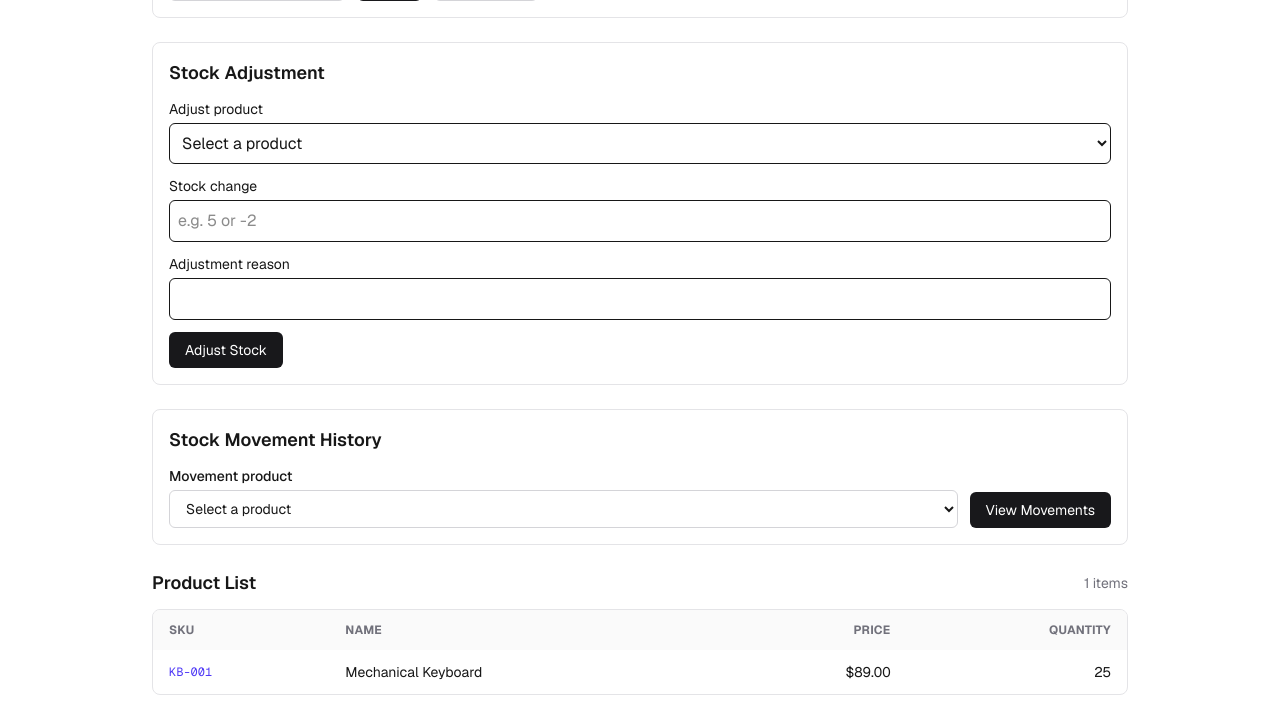
Scenario: displays stock movement history for a selected product
This screenshot has width=1280, height=719.
(page scrolled)
Expected: the text "Mechanical Keyboard" is shown, [329,650,726,694]
Select "Mechanical Keyboard (KB-001)" in the dropdown labelled "Movement product" at (563, 509), box [169,490,958,528]
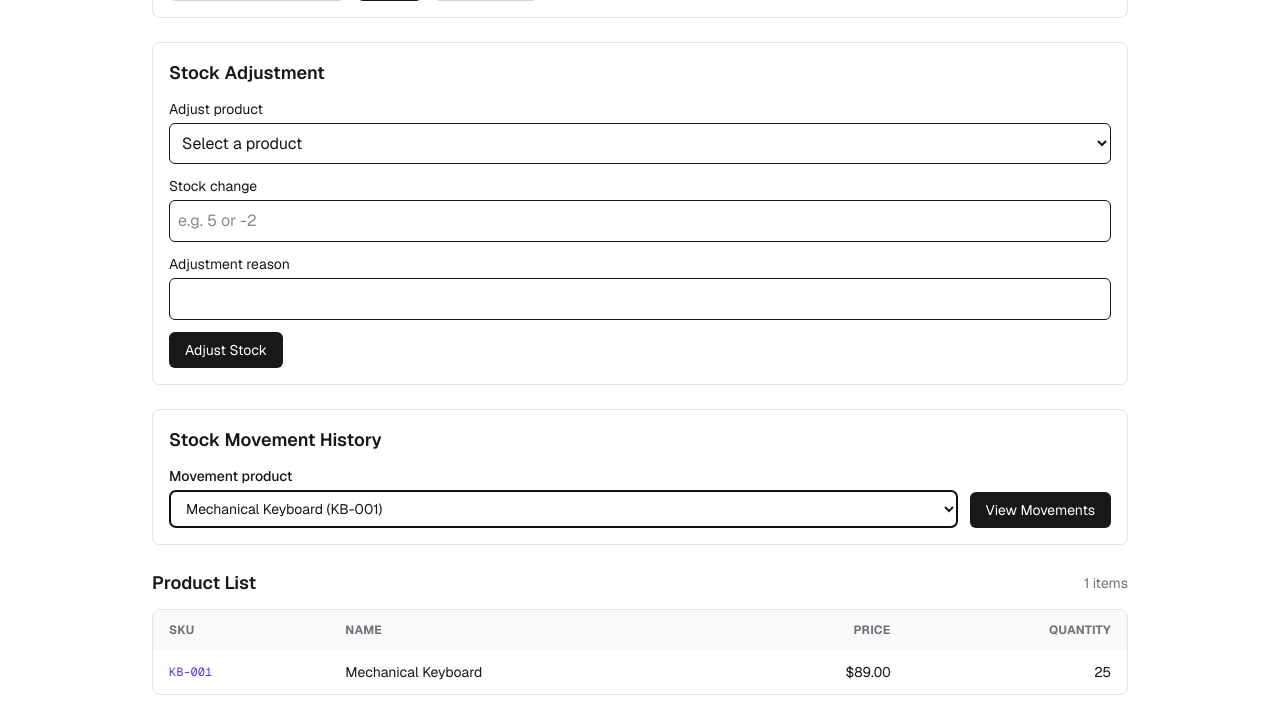
Click the button "View Movements" at (1040, 510), box [970,492,1111,528]
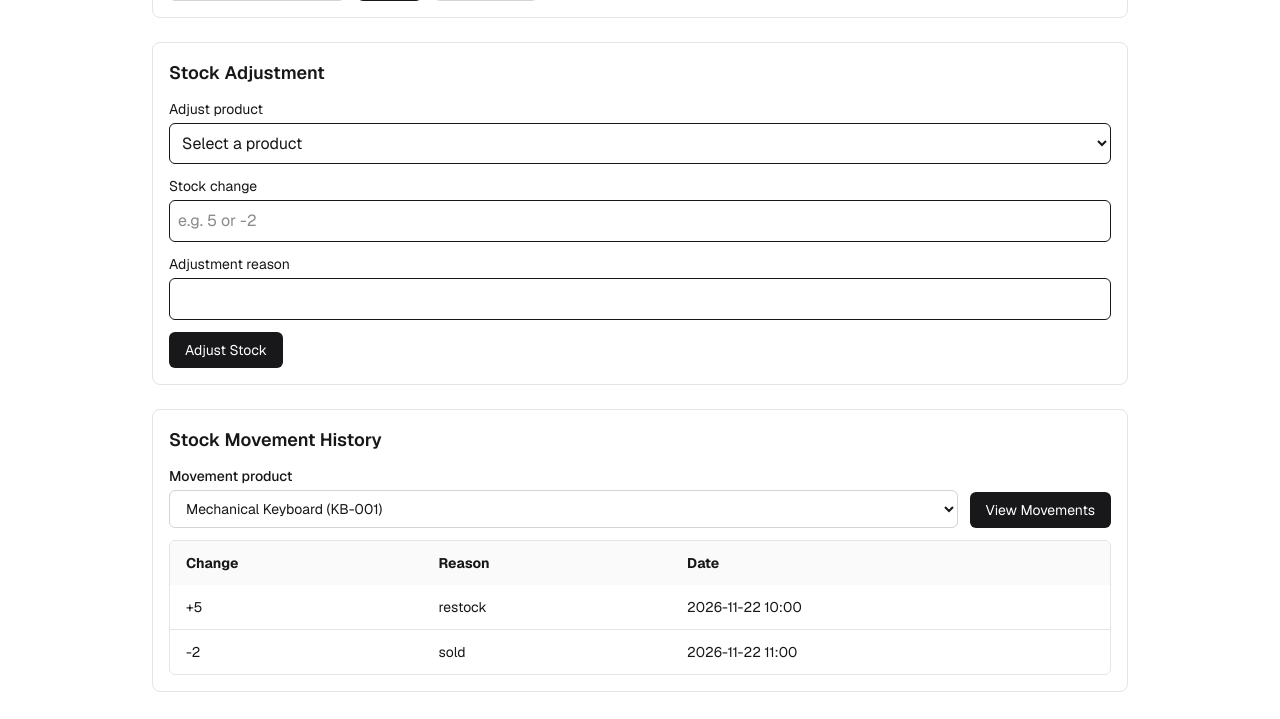
Now the text "restock" is shown, box [423,585,671,630]
Now the text "sold" is shown, box [423,630,671,674]
Now the text "+5" is shown, box [170,585,423,630]
